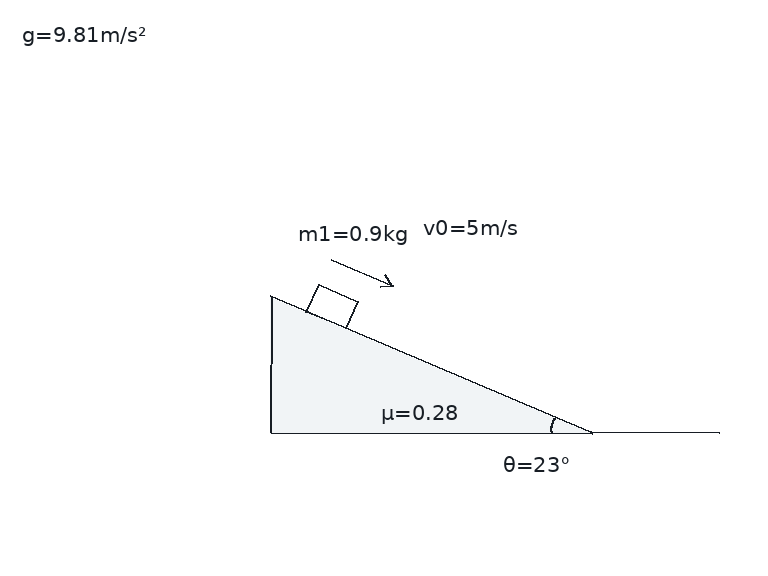block: (305, 282, 359, 331)
ramp: (269, 295, 593, 435)
